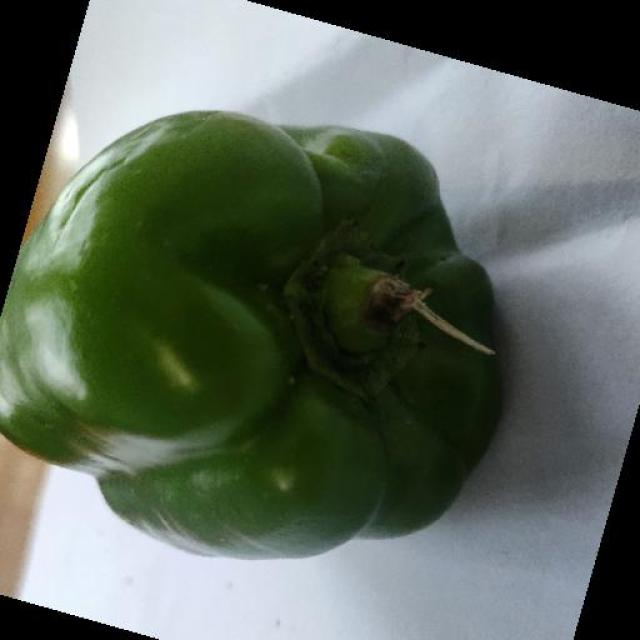Fresh_Capsicum: (111, 197, 451, 486)
